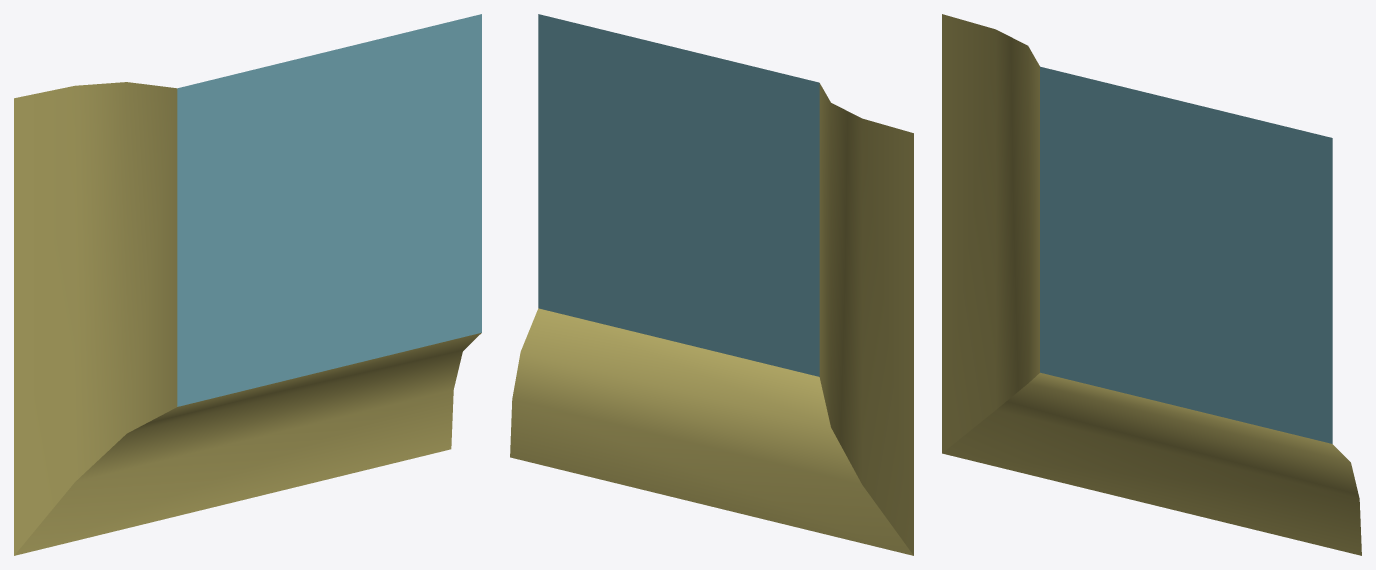
The model's file is Env_FloorTile_BeachCornerA.fbx.
3 views of the same model, side by side, from view 1: azimuth 30°, elevation 25°; view 2: azimuth 150°, elevation 25°; view 3: azimuth 330°, elevation 25° (orthographic). The views are drawn at different scales.
Visible parts, largest first — view 1: Env_FloorTile_BeachCornerA; view 2: Env_FloorTile_BeachCornerA; view 3: Env_FloorTile_BeachCornerA.
Boxes of the visible parts, <box> form: Env_FloorTile_BeachCornerA: <box>14,14,481,555</box>; Env_FloorTile_BeachCornerA: <box>510,14,913,555</box>; Env_FloorTile_BeachCornerA: <box>942,14,1361,555</box>.
Bounding box in the file's own units: 1 × 1 × 0.1212.
